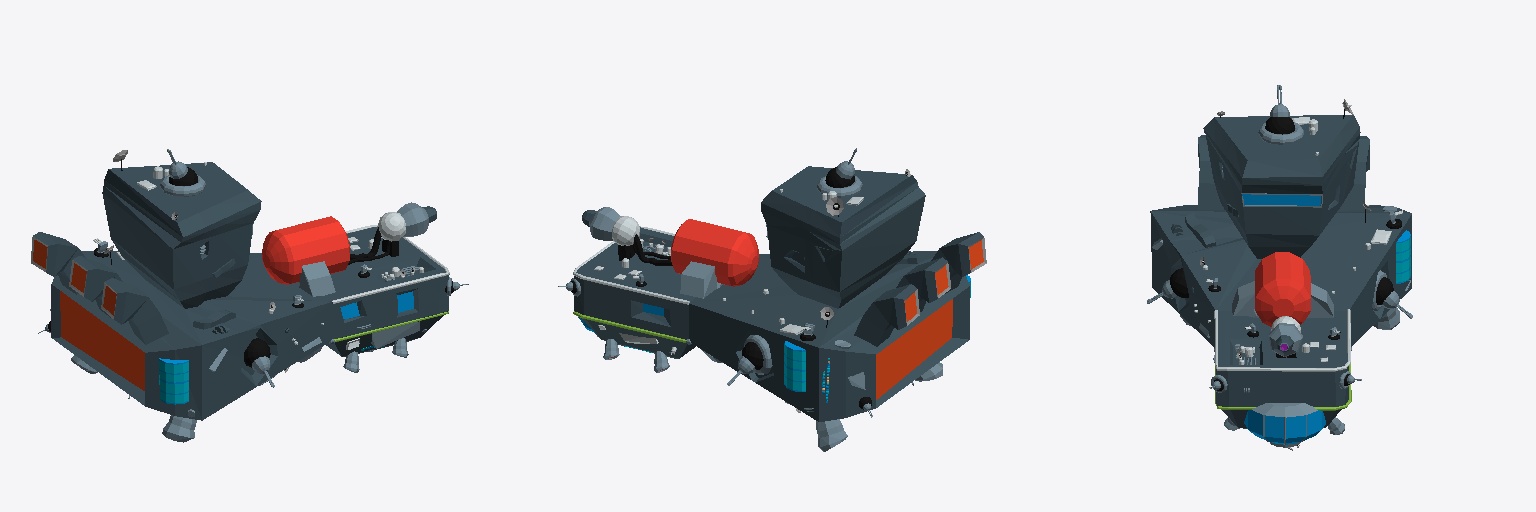
3 views of the same model, side by side, from view 1: azimuth 30°, elevation 25°; view 2: azimuth 150°, elevation 25°; view 3: azimuth 270°, elevation 25° (orthographic).
Parts seen in each view (by area): view 1: mesh[number redacted]; view 2: mesh[number redacted]; view 3: mesh[number redacted].
Boxes of the visible parts, box(x1,y1,x2,y2) form: mesh[number redacted]: box(31, 149, 468, 442); mesh[number redacted]: box(558, 148, 986, 451); mesh[number redacted]: box(1147, 85, 1412, 450).
Size of the model in its own units: 4.38 by 2.95 by 2.79.